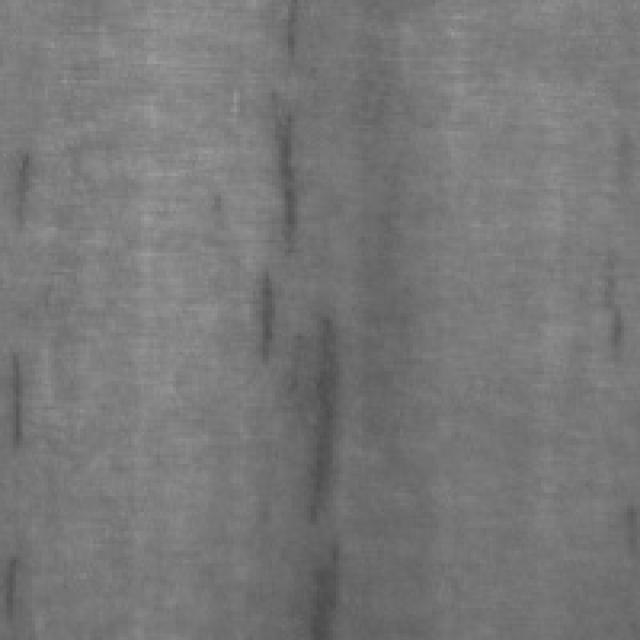inclusion: (262, 282, 342, 528), (243, 83, 314, 259), (0, 336, 45, 458), (294, 522, 342, 636), (586, 253, 630, 358), (6, 144, 54, 234), (250, 256, 282, 368)
